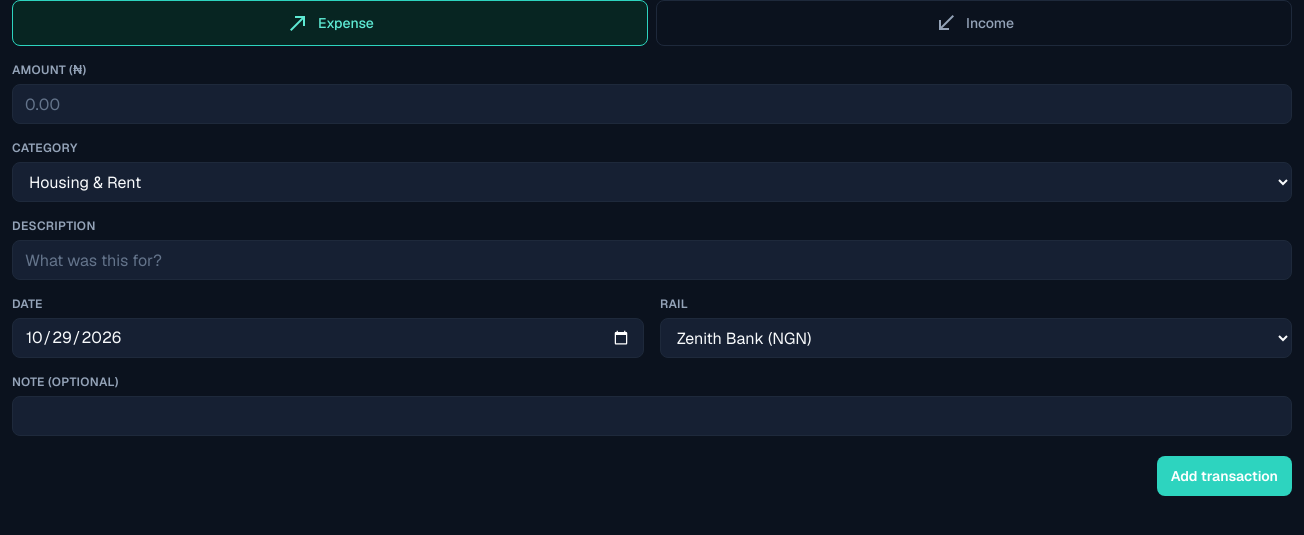
it: TransactionForm › requires a description of at least 2 characters
In the number field labelled "Amount (₦)": (652, 104) 12,84 -> 1292,124, type "1000"
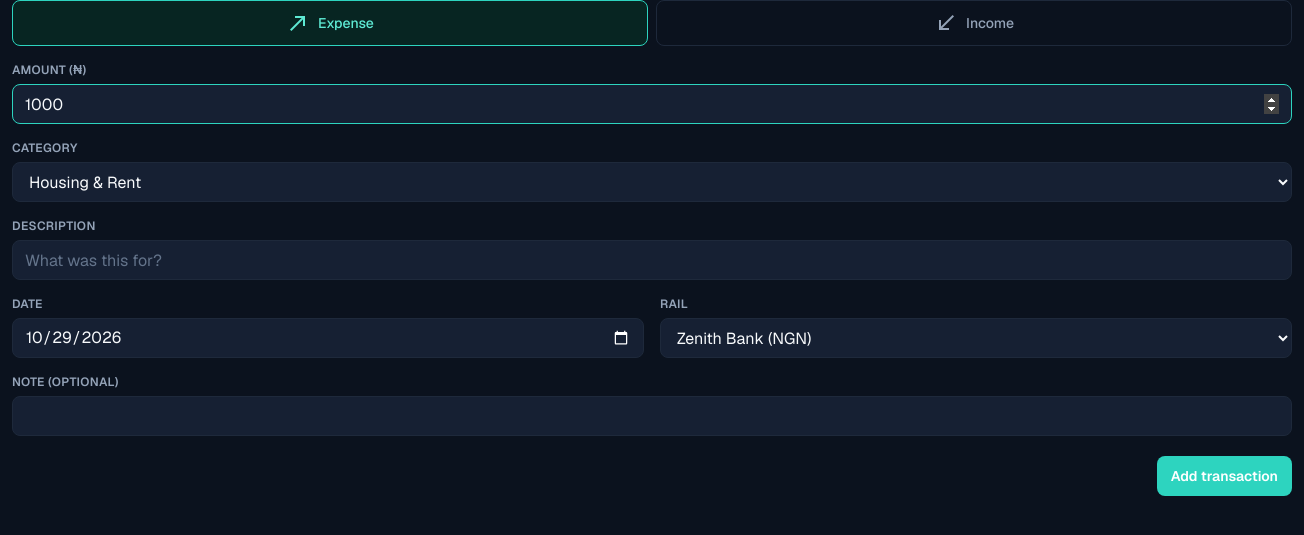
In the field labelled "Description": (652, 260) 12,240 -> 1292,280, type "a"
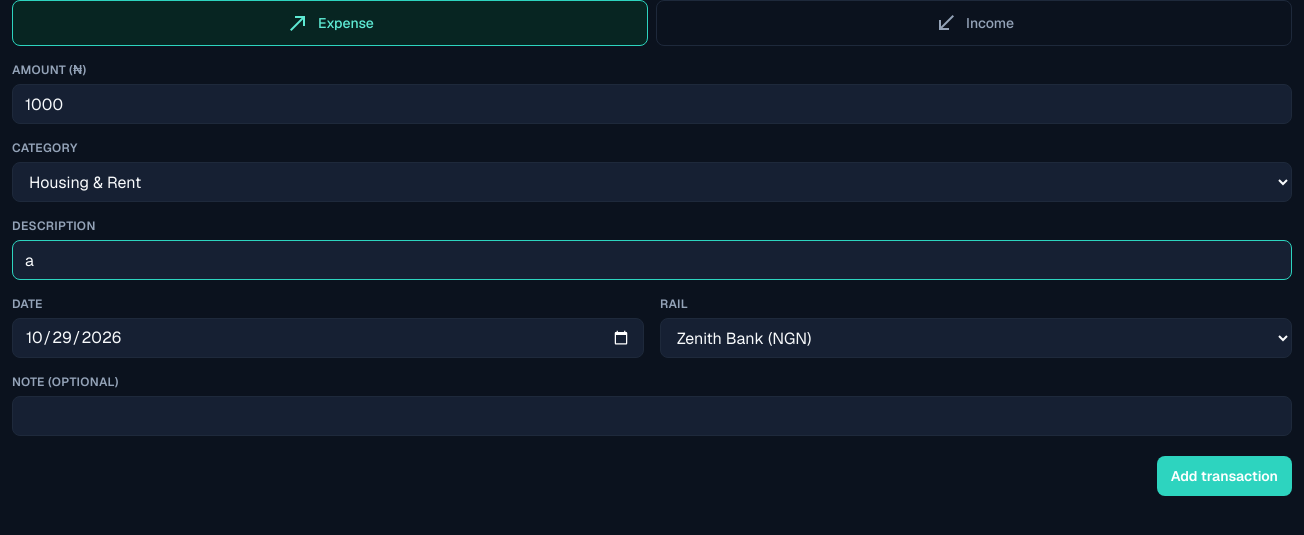
Click the button "Add transaction": (1224, 476) 1157,456 -> 1292,496
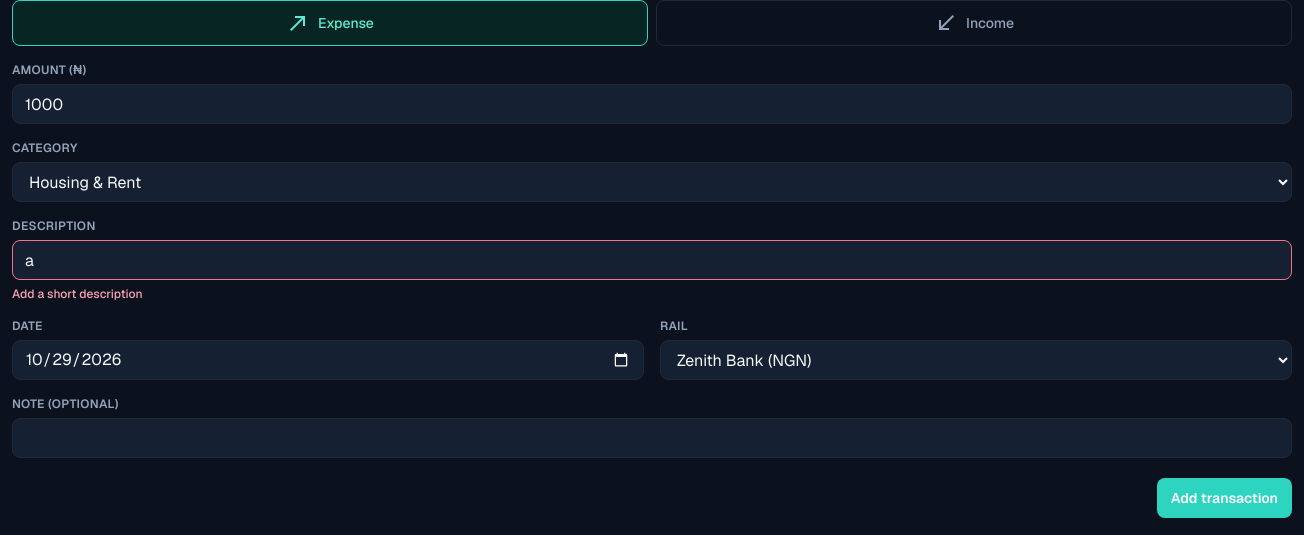
Result: the message shows "short description" at 12,286 -> 142,302
